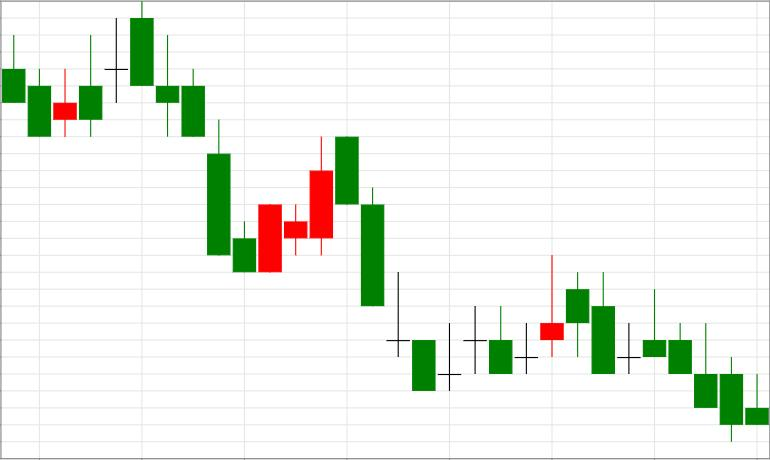bullish_engulfing_rise: (131, 2, 282, 273)
